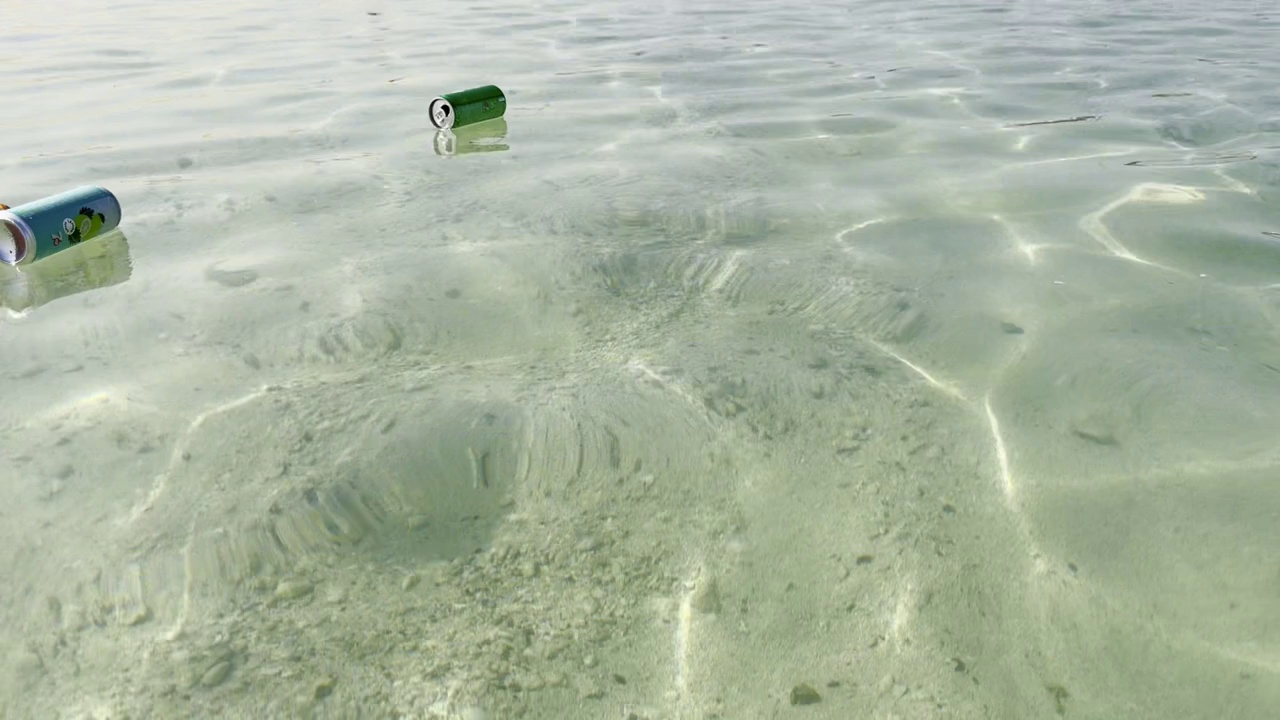debris: (0, 178, 123, 273), (422, 74, 513, 134)
